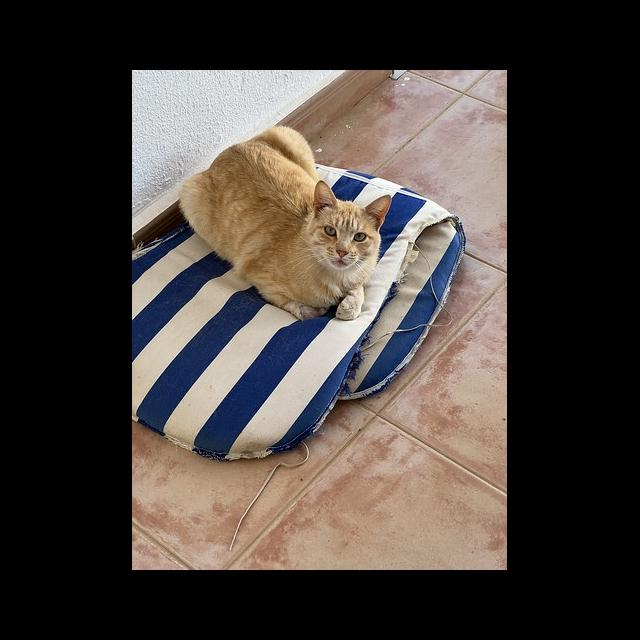animals: (179, 126, 393, 319)
